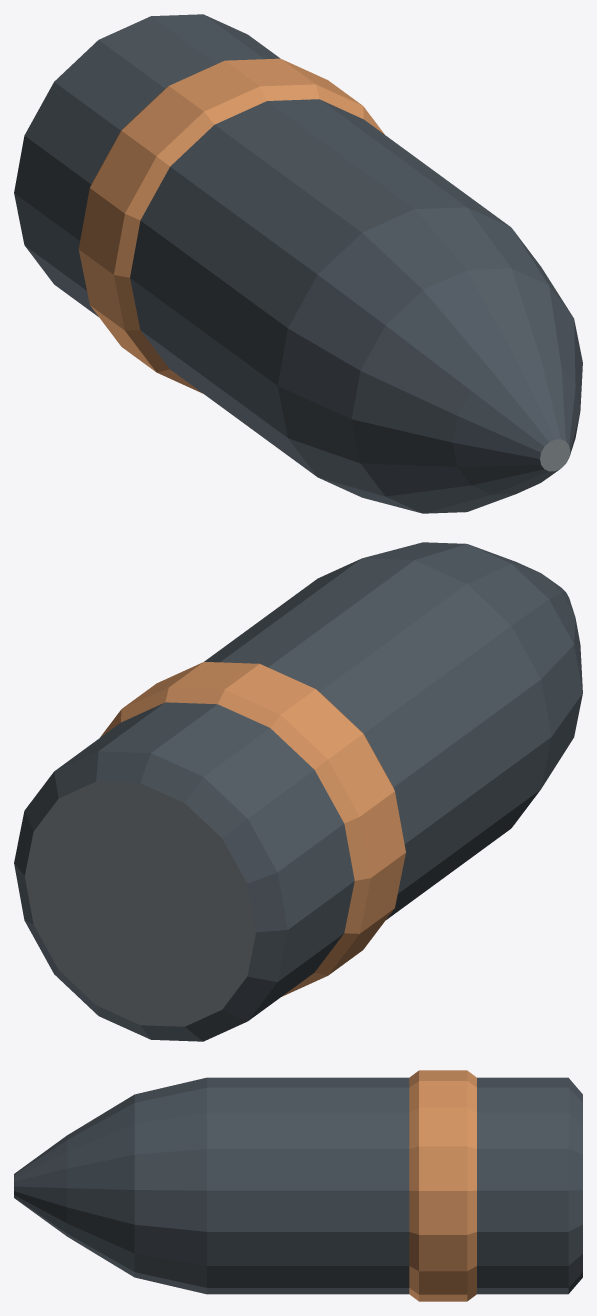
The model's file is shell-large.glb.
The picture shows the model from 3 angles, top to bottom: view 1: azimuth 30°, elevation 25°; view 2: azimuth 150°, elevation 25°; view 3: azimuth 270°, elevation 25°; orthographic projection. The views are drawn at different scales.
Visible parts, largest first — view 1: shell-large; view 2: shell-large; view 3: shell-large.
Part boxes in pixels (x1=…): shell-large: x1=14, y1=14, x2=582, y2=513; shell-large: x1=14, y1=542, x2=582, y2=1041; shell-large: x1=14, y1=1070, x2=582, y2=1301.
Size of the model in its own units: 0.48 by 0.48 by 1.18.
